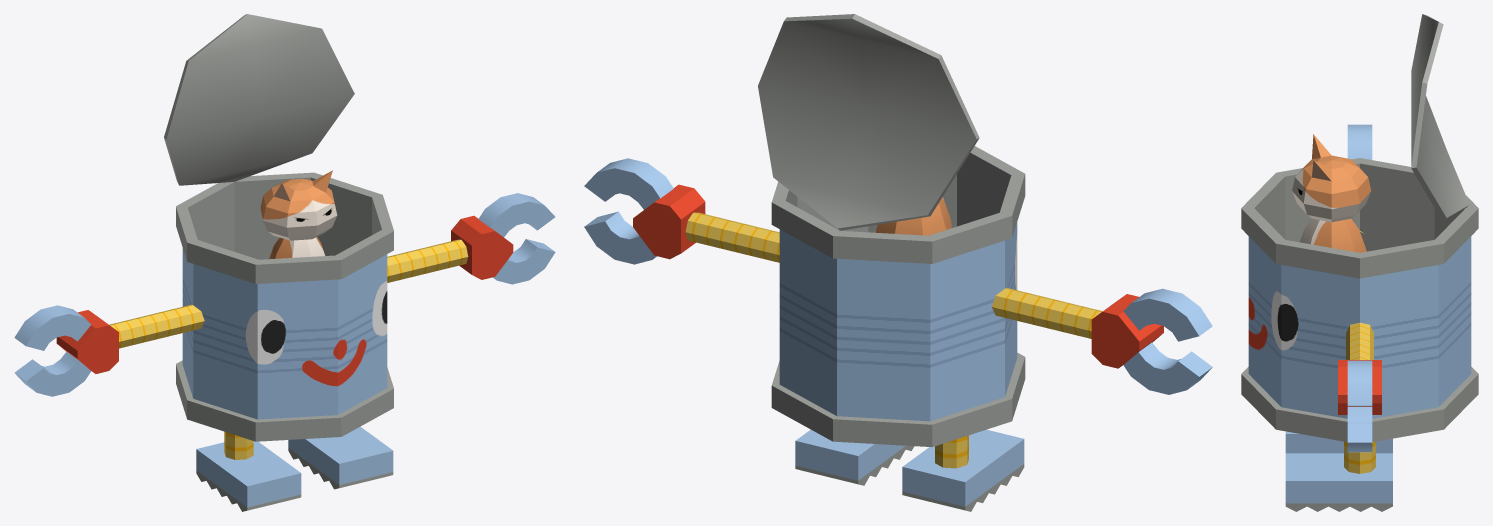
The model's file is Player.fbx.
3 views of the same model, side by side, from view 1: azimuth 30°, elevation 25°; view 2: azimuth 150°, elevation 25°; view 3: azimuth 270°, elevation 25° (orthographic). The views are drawn at different scales.
Parts seen in each view (by area): view 1: body_M, lid_M, foot_R, Cat, foot_L, finger_R, finger_L, hand_L, arm_R, hand_R, arm_L, leg_R; view 2: body_M, lid_M, foot_R, finger_R, finger_L, foot_L, hand_L, arm_R, hand_R, arm_L, Cat, leg_R; view 3: body_M, Cat, lid_M, foot_L, finger_L, foot_R, hand_L, arm_L, finger_R, leg_L.
Boxes of the visible parts, bbox=[...] form: body_M: bbox=[176, 172, 393, 441]; lid_M: bbox=[164, 14, 354, 185]; foot_R: bbox=[196, 441, 301, 511]; Cat: bbox=[260, 170, 337, 259]; foot_L: bbox=[288, 426, 393, 489]; finger_R: bbox=[14, 305, 91, 396]; finger_L: bbox=[478, 193, 555, 284]; hand_L: bbox=[451, 215, 513, 279]; arm_R: bbox=[109, 304, 204, 348]; hand_R: bbox=[56, 310, 118, 373]; arm_L: bbox=[387, 239, 468, 282]; leg_R: bbox=[224, 431, 253, 459]; body_M: bbox=[771, 146, 1025, 447]; lid_M: bbox=[758, 14, 979, 230]; foot_R: bbox=[902, 429, 1024, 511]; finger_R: bbox=[1123, 288, 1212, 394]; finger_L: bbox=[584, 158, 673, 264]; foot_L: bbox=[795, 429, 914, 485]; hand_L: bbox=[633, 184, 705, 259]; arm_R: bbox=[992, 287, 1102, 338]; hand_R: bbox=[1091, 294, 1163, 368]; arm_L: bbox=[685, 212, 779, 262]; Cat: bbox=[876, 197, 951, 235]; leg_R: bbox=[935, 435, 968, 468]; body_M: bbox=[1241, 158, 1478, 442]; Cat: bbox=[1292, 134, 1371, 252]; lid_M: bbox=[1411, 14, 1469, 220]; foot_L: bbox=[1285, 453, 1392, 511]; finger_L: bbox=[1347, 360, 1372, 452]; foot_R: bbox=[1285, 431, 1392, 453]; hand_L: bbox=[1338, 360, 1381, 414]; arm_L: bbox=[1346, 322, 1373, 359]; finger_R: bbox=[1347, 124, 1372, 159]; leg_L: bbox=[1344, 441, 1375, 473].
Size of the model in its own units: 9.79 by 7.6 by 3.62.
Materials: 2 (2 with a texture image).
